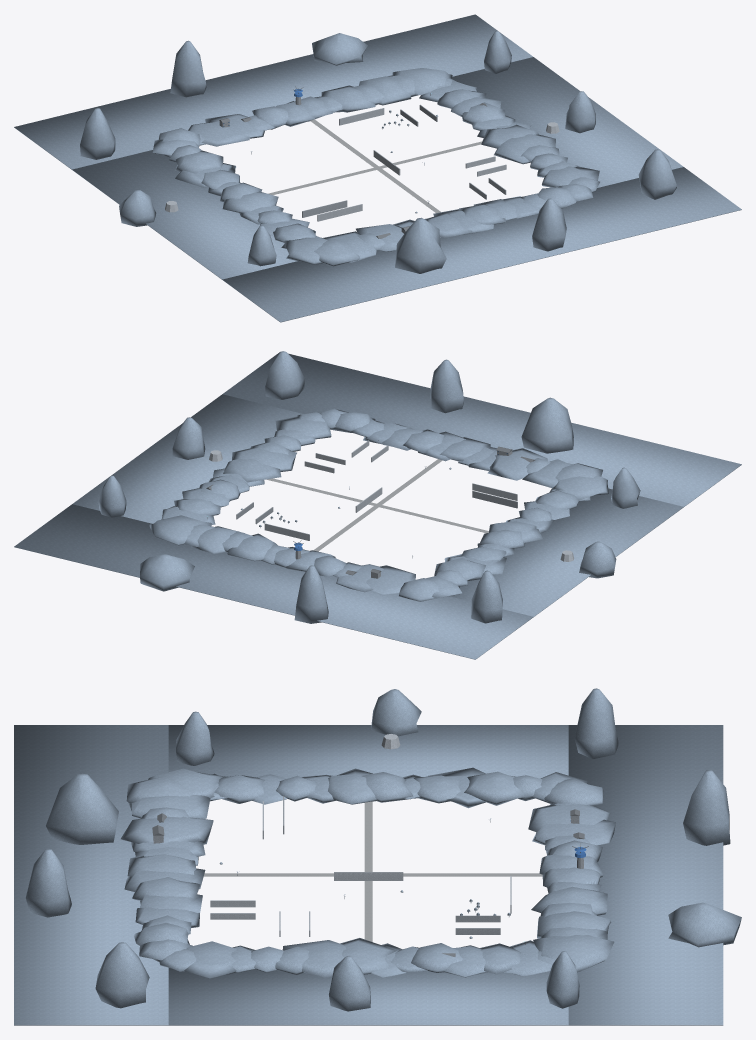
File: setsugen-lod2.glb
3 views of the same model, one above another, from view 1: azimuth 30°, elevation 25°; view 2: azimuth 150°, elevation 25°; view 3: azimuth 270°, elevation 25° (orthographic). The views are drawn at different scales.
Visible parts, largest first — view 1: HB_setsugen_LOD2_terrain, HB_setsugen_LOD2_wall, HB_setsugen_LOD2_road, HB_setsugen_LOD2_wall_alt; view 2: HB_setsugen_LOD2_terrain, HB_setsugen_LOD2_wall, HB_setsugen_LOD2_road, HB_setsugen_LOD2_wall_alt; view 3: HB_setsugen_LOD2_terrain, HB_setsugen_LOD2_road, HB_setsugen_LOD2_wall, HB_setsugen_LOD2_wall_alt.
Part boxes in pixels (x1,y1,x2,y2): HB_setsugen_LOD2_terrain: (14, 14, 741, 322); HB_setsugen_LOD2_wall: (165, 108, 559, 221); HB_setsugen_LOD2_road: (268, 119, 482, 213); HB_setsugen_LOD2_wall_alt: (219, 97, 437, 238); HB_setsugen_LOD2_terrain: (14, 351, 741, 659); HB_setsugen_LOD2_wall: (209, 440, 574, 561); HB_setsugen_LOD2_road: (266, 459, 488, 551); HB_setsugen_LOD2_wall_alt: (236, 450, 517, 578); HB_setsugen_LOD2_terrain: (14, 688, 741, 1025); HB_setsugen_LOD2_road: (203, 801, 542, 941); HB_setsugen_LOD2_wall: (210, 734, 511, 936); HB_setsugen_LOD2_wall_alt: (153, 796, 583, 934).
Bounding box in the file's own units: 618 × 61.91 × 612.
9 materials, 7 textured.
